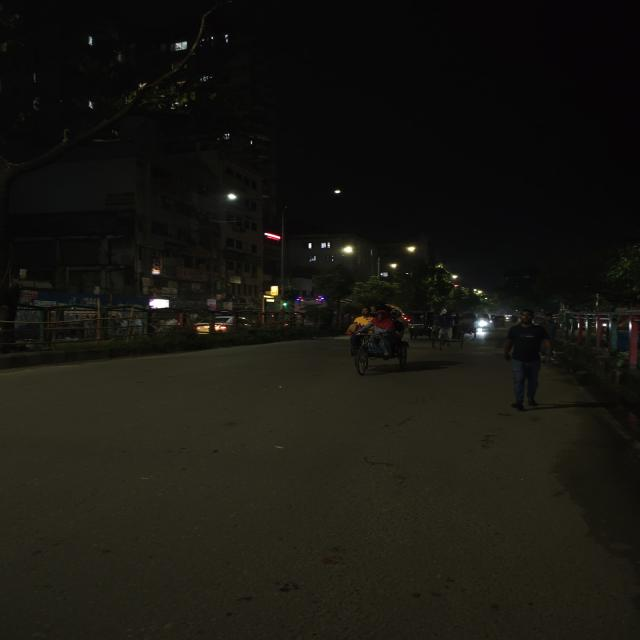car: (192, 310, 252, 336)
pedestrian: (497, 308, 556, 411)
rickshaw: (337, 304, 416, 376), (428, 309, 458, 349), (458, 311, 481, 335)
